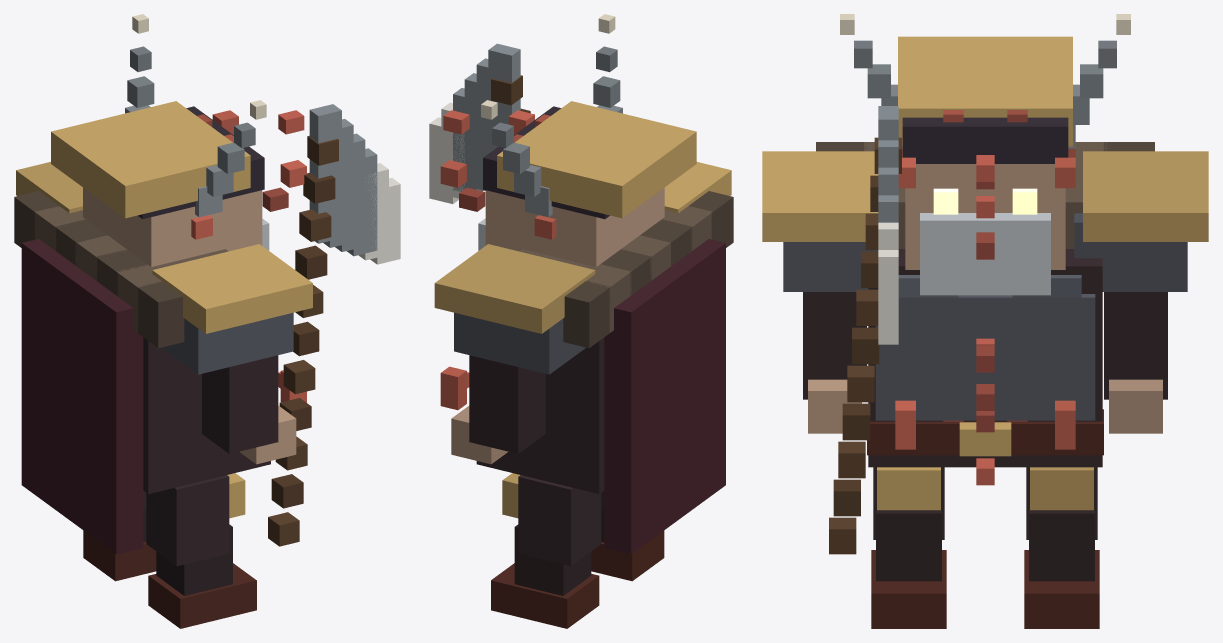
The model's file is bandit-executioner.glb.
The picture shows the model from 3 angles, left to right: view 1: azimuth 30°, elevation 25°; view 2: azimuth 150°, elevation 25°; view 3: azimuth 270°, elevation 25°; orthographic projection. The views are drawn at different scales.
Parts seen in each view (by area): view 1: Cloak, Shoulders, Boots, Crest, Mantle, Torso, AxeBlade, AxeShaft, Head, Arms, Horns, Scales (+2 smaller); view 2: Cloak, Shoulders, Boots, Crest, Mantle, Torso, Head, AxeBlade, Arms, Horns, Scales, Hands (+2 smaller); view 3: Armor, Shoulders, Boots, Crest, Horns, Arms, Mask, AxeShaft, Head, Torso, Trim, Hands (+4 smaller).
Part boxes in pixels (<box>): Cloak: <box>21,239,143,554</box>; Shoulders: <box>16,162,312,374</box>; Boots: <box>83,473,256,628</box>; Crest: <box>51,101,250,218</box>; Mantle: <box>14,191,228,348</box>; Torso: <box>143,337,270,493</box>; AxeBlade: <box>309,104,400,264</box>; AxeShaft: <box>268,135,338,546</box>; Head: <box>83,187,262,266</box>; Arms: <box>202,355,278,453</box>; Horns: <box>125,14,266,219</box>; Scales: <box>191,110,306,402</box>; Cloak: <box>604,239,725,554</box>; Shoulders: <box>434,162,731,374</box>; Boots: <box>491,473,664,628</box>; Crest: <box>497,101,696,218</box>; Mantle: <box>519,191,733,347</box>; Torso: <box>476,337,604,493</box>; Head: <box>485,187,664,266</box>; AxeBlade: <box>429,43,520,203</box>; Arms: <box>469,355,545,453</box>; Horns: <box>481,14,622,219</box>; Scales: <box>440,110,556,410</box>; Hands: <box>451,406,508,464</box>; Armor: <box>867,275,1103,455</box>; Shoulders: <box>762,151,1208,291</box>; Boots: <box>871,467,1099,628</box>; Crest: <box>898,36,1072,146</box>; Horns: <box>840,14,1130,163</box>; Arms: <box>803,292,1167,399</box>; Mask: <box>920,213,1050,295</box>; AxeShaft: <box>829,137,901,554</box>; Head: <box>905,164,1065,269</box>; Torso: <box>868,249,1102,467</box>; Trim: <box>959,155,1011,485</box>; Hands: <box>808,379,1162,433</box>.
Bounding box in the file's own units: 3.4 × 5.87 × 3.91.
